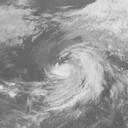cyclone: (41, 42, 103, 112)
